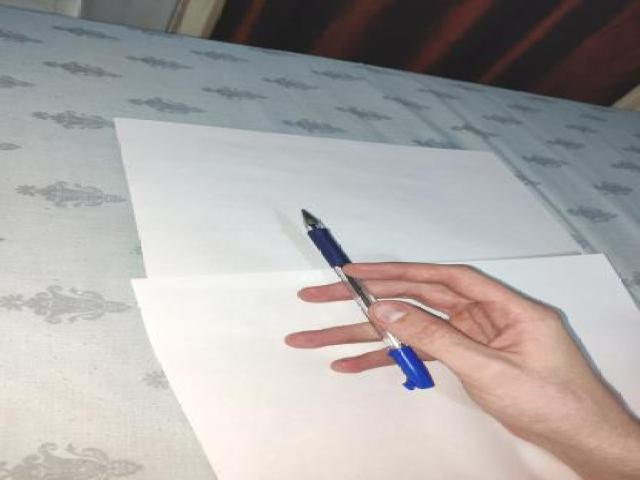PEN: (292, 202, 439, 399)
